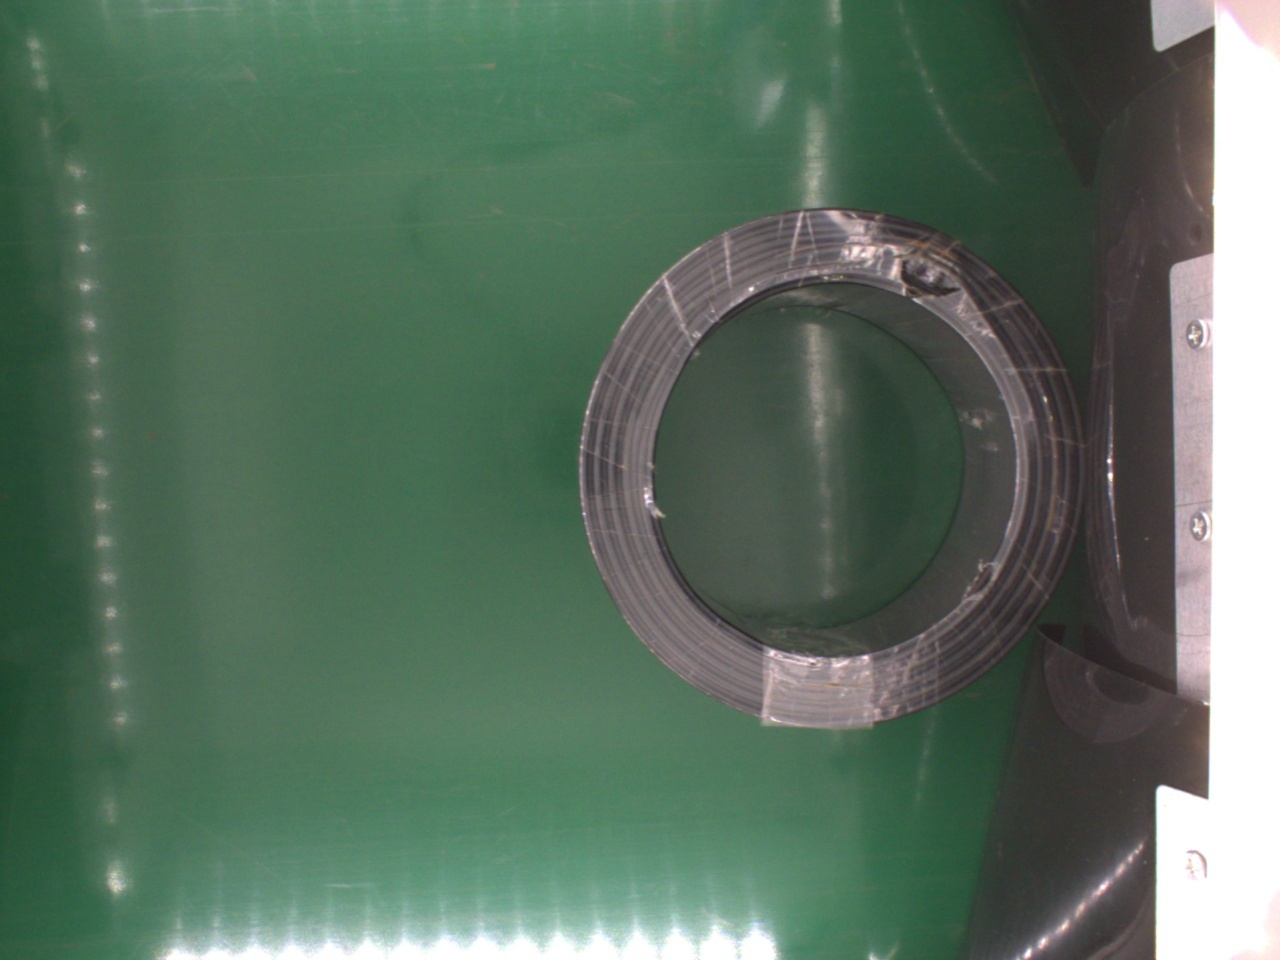black: (579, 205, 1086, 735)
